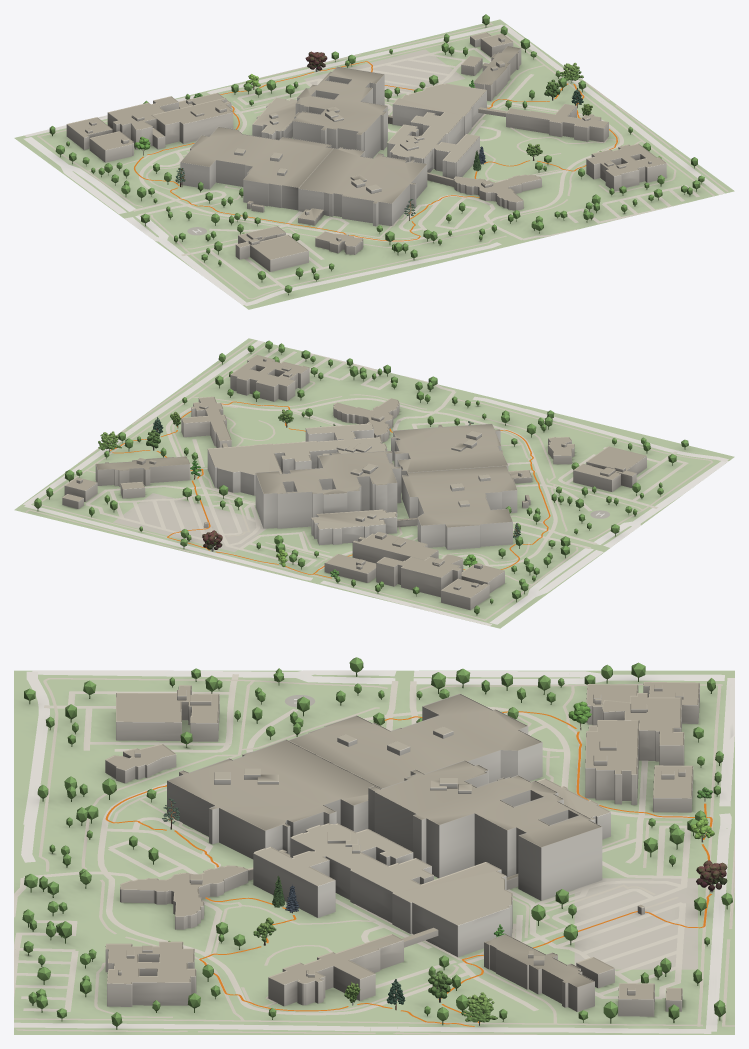
File: map.glb
3 views of the same model, one above another, from view 1: azimuth 30°, elevation 25°; view 2: azimuth 150°, elevation 25°; view 3: azimuth 270°, elevation 25° (orthographic). The views are drawn at different scales.
Parts seen in each view (by area): view 1: GND_base, BLD_BC_Childrens_Hospital, GND_roads_service, BLD_BC_Womens_Hospital, BLD_Shaughnessy_Building, BLD_Teck_Acute_Care_Centre, GND_paths_footway, GND_roads_residential, BLD_Ronald_McDonald_House, GND_roads_primary, BLD_Healthy_Minds_Centre, BLD_BCCHRI_South_Wing (+11 smaller); view 2: GND_base, BLD_Teck_Acute_Care_Centre, BLD_BC_Childrens_Hospital, GND_roads_service, BLD_Shaughnessy_Building, GND_paths_footway, BLD_BC_Womens_Hospital, GND_roads_residential, GND_parking, BLD_Ronald_McDonald_House, BLD_BCCHRI_Main, GND_roads_primary (+12 smaller); view 3: GND_base, BLD_Teck_Acute_Care_Centre, GND_roads_service, BLD_Shaughnessy_Building, BLD_BC_Womens_Hospital, BLD_BC_Childrens_Hospital, GND_paths_footway, GND_roads_residential, GND_parking, BLD_Ronald_McDonald_House, GND_roads_primary, BLD_Healthy_Minds_Centre (+15 smaller).
Boxes of the visible parts, <box> form: GND_base: <box>14,19,734,309</box>; BLD_BC_Childrens_Hospital: <box>180,126,333,210</box>; GND_roads_service: <box>132,47,699,289</box>; BLD_BC_Womens_Hospital: <box>298,147,427,226</box>; BLD_Shaughnessy_Building: <box>387,83,486,178</box>; BLD_Teck_Acute_Care_Centre: <box>293,66,387,158</box>; GND_paths_footway: <box>37,22,728,299</box>; GND_roads_residential: <box>24,24,724,306</box>; BLD_Ronald_McDonald_House: <box>586,143,666,191</box>; GND_roads_primary: <box>23,137,246,305</box>; BLD_Healthy_Minds_Centre: <box>506,104,608,142</box>; BLD_BCCHRI_South_Wing: <box>152,98,233,144</box>; GND_base: <box>14,338,734,628</box>; BLD_Teck_Acute_Care_Centre: <box>255,451,401,528</box>; BLD_BC_Childrens_Hospital: <box>402,465,517,549</box>; GND_roads_service: <box>85,348,688,570</box>; BLD_Shaughnessy_Building: <box>207,423,387,495</box>; GND_paths_footway: <box>25,340,713,620</box>; BLD_BC_Womens_Hospital: <box>391,423,508,492</box>; GND_roads_residential: <box>23,340,728,625</box>; GND_parking: <box>113,493,266,551</box>; BLD_Ronald_McDonald_House: <box>230,354,309,401</box>; BLD_BCCHRI_Main: <box>376,554,463,597</box>; GND_roads_primary: <box>489,461,728,624</box>; GND_base: <box>14,670,734,1034</box>; BLD_Teck_Acute_Care_Centre: <box>368,760,602,900</box>; GND_roads_service: <box>14,674,690,1015</box>; BLD_Shaughnessy_Building: <box>253,823,512,957</box>; BLD_BC_Womens_Hospital: <box>167,739,381,859</box>; BLD_BC_Childrens_Hospital: <box>288,693,542,788</box>; GND_paths_footway: <box>14,678,734,1034</box>; GND_roads_residential: <box>14,671,734,1033</box>; GND_parking: <box>574,878,697,969</box>; BLD_Ronald_McDonald_House: <box>105,941,196,1006</box>; GND_roads_primary: <box>32,670,724,684</box>; BLD_Healthy_Minds_Centre: <box>268,934,403,1006</box>.
Bounding box in the file's own units: 538 × 40.17 × 450.
